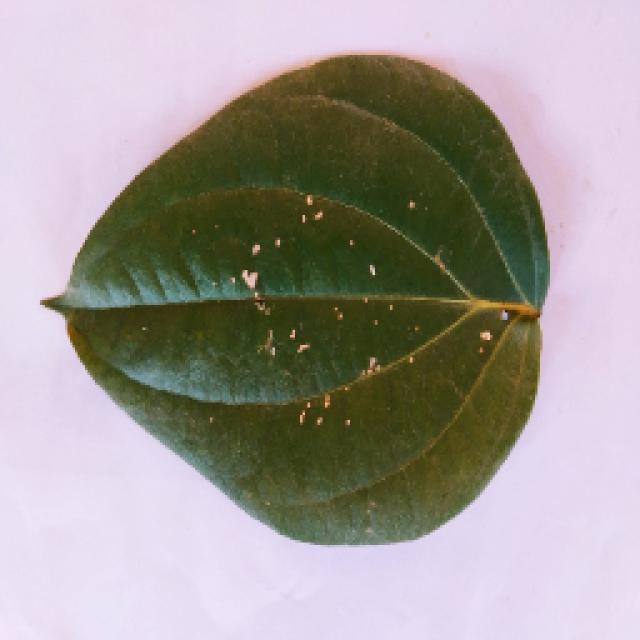pollu-disease: (20, 63, 598, 565)
